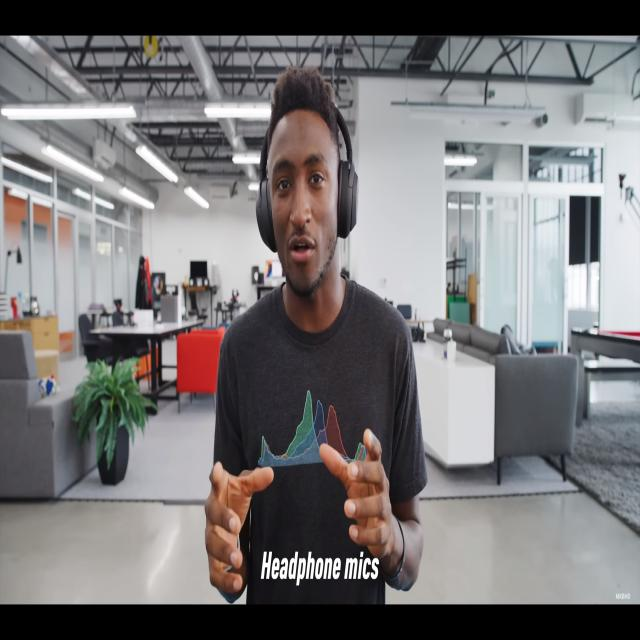Headphone: (255, 105, 359, 253)
